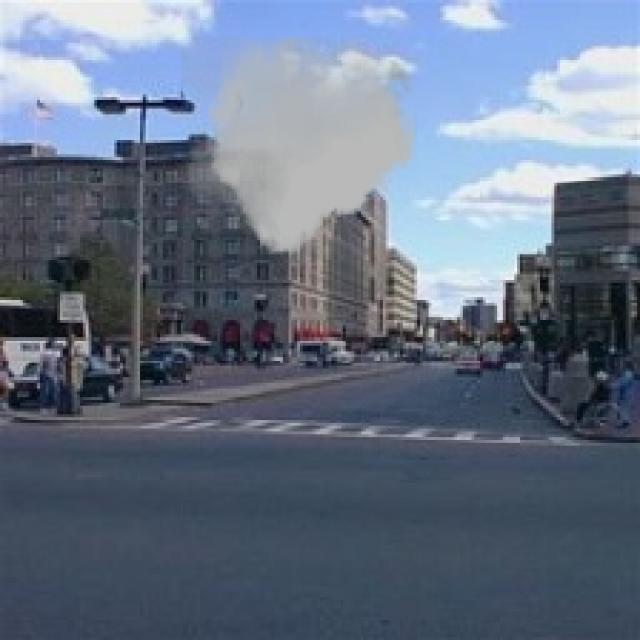smoke: (180, 37, 420, 254)
